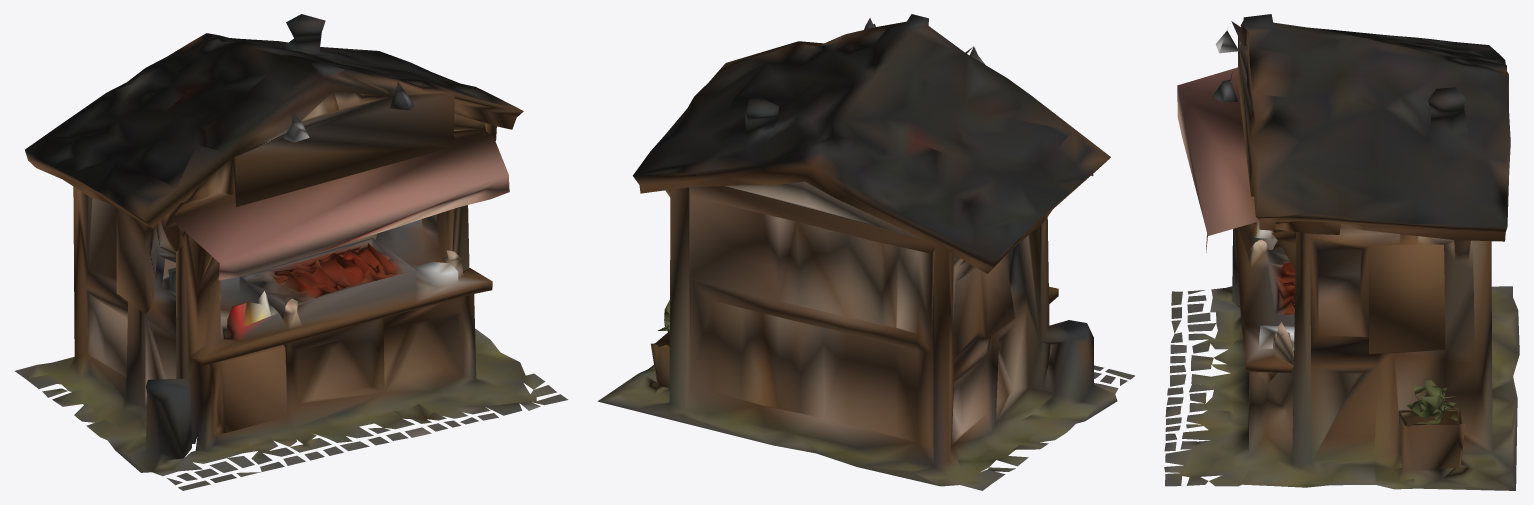
The model's file is currywurst-lo.glb.
The picture shows the model from 3 angles, left to right: view 1: azimuth 30°, elevation 25°; view 2: azimuth 150°, elevation 25°; view 3: azimuth 270°, elevation 25°; orthographic projection. The views are drawn at different scales.
Parts seen in each view (by area): view 1: geometry_0; view 2: geometry_0; view 3: geometry_0.
Boxes of the visible parts, bbox=[...] form: geometry_0: bbox=[15, 14, 568, 490]; geometry_0: bbox=[597, 14, 1134, 490]; geometry_0: bbox=[1164, 14, 1519, 490].
Bounding box in the file's own units: 1.89 × 1.59 × 1.39.
